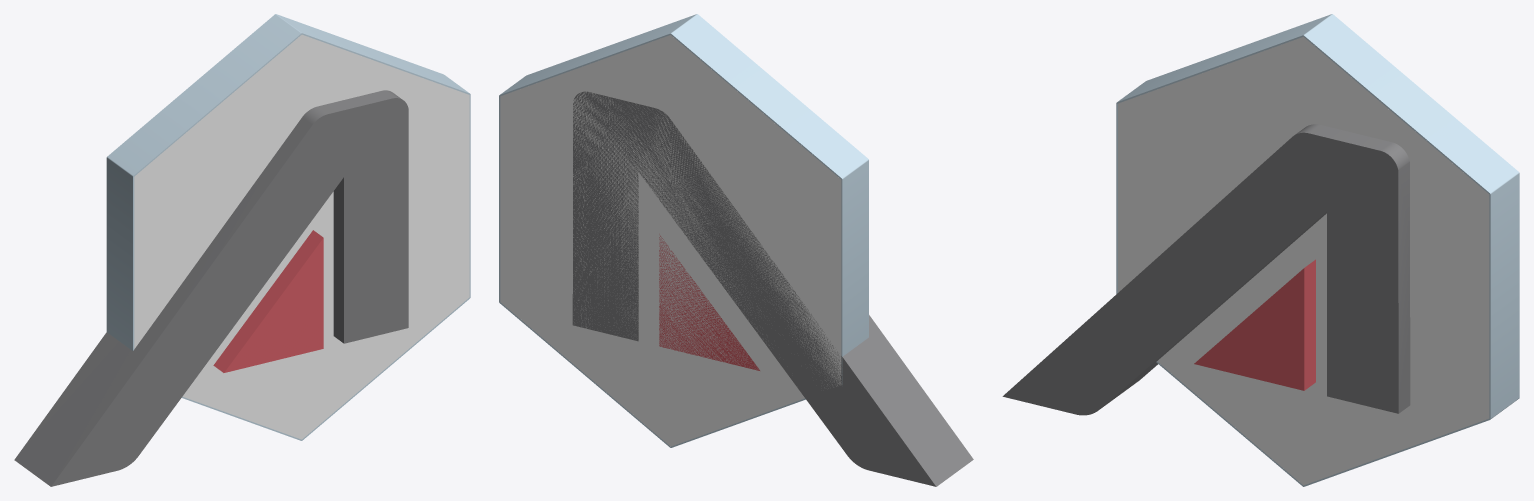
File: ALLIED.gltf
3 renders of one model, left to right at view 1: azimuth 30°, elevation 25°; view 2: azimuth 150°, elevation 25°; view 3: azimuth 330°, elevation 25°, orthographic. The views are drawn at different scales.
Parts seen in each view (by area): view 1: Mesh_2.003, Mesh_1.003, Mesh_3.003, Mesh_0.004; view 2: Mesh_2.003, Mesh_1.003, Mesh_3.003, Mesh_0.004; view 3: Mesh_2.003, Mesh_1.003, Mesh_3.003, Mesh_0.004.
Boxes of the visible parts, x1=… form: Mesh_2.003: x1=134, y1=34, x2=469, y2=439; Mesh_1.003: x1=14, y1=90, x2=408, y2=486; Mesh_3.003: x1=106, y1=14, x2=470, y2=440; Mesh_0.004: x1=213, y1=230, x2=323, y2=372; Mesh_2.003: x1=500, y1=35, x2=841, y2=446; Mesh_1.003: x1=572, y1=91, x2=973, y2=486; Mesh_3.003: x1=499, y1=14, x2=868, y2=447; Mesh_0.004: x1=659, y1=234, x2=759, y2=370; Mesh_2.003: x1=1118, y1=37, x2=1489, y2=485; Mesh_1.003: x1=1002, y1=124, x2=1410, y2=415; Mesh_3.003: x1=1116, y1=14, x2=1519, y2=486; Mesh_0.004: x1=1194, y1=259, x2=1315, y2=390.
Bounding box in the file's own units: 1.37 × 1.24 × 0.2034.
